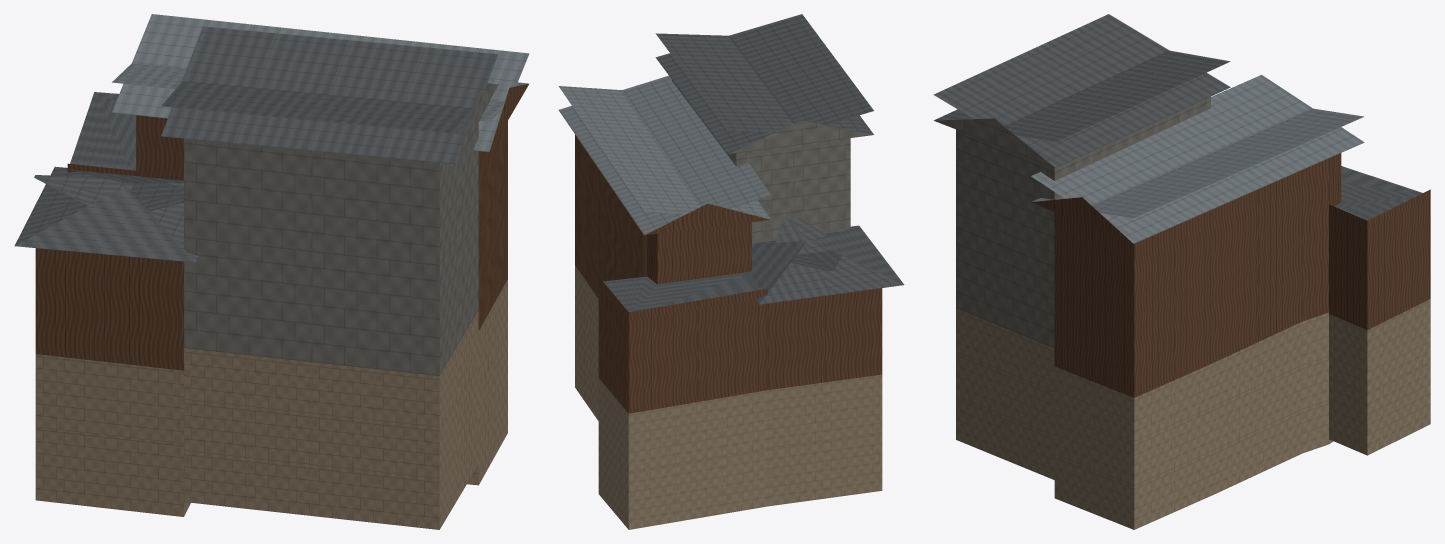
The model's file is bld_c41_-9_505.gltf.
3 views of the same model, side by side, from view 1: azimuth 30°, elevation 25°; view 2: azimuth 150°, elevation 25°; view 3: azimuth 270°, elevation 25° (orthographic). The views are drawn at different scales.
Parts seen in each view (by area): view 1: bld_c41_-9_505; view 2: bld_c41_-9_505; view 3: bld_c41_-9_505.
Part boxes in pixels (<box>): bld_c41_-9_505: <box>14,14,529,529</box>; bld_c41_-9_505: <box>558,14,904,529</box>; bld_c41_-9_505: <box>933,14,1430,529</box>.
Size of the model in its own units: 16.48 by 14.1 by 17.43.
Materials: 7 (7 with a texture image).
